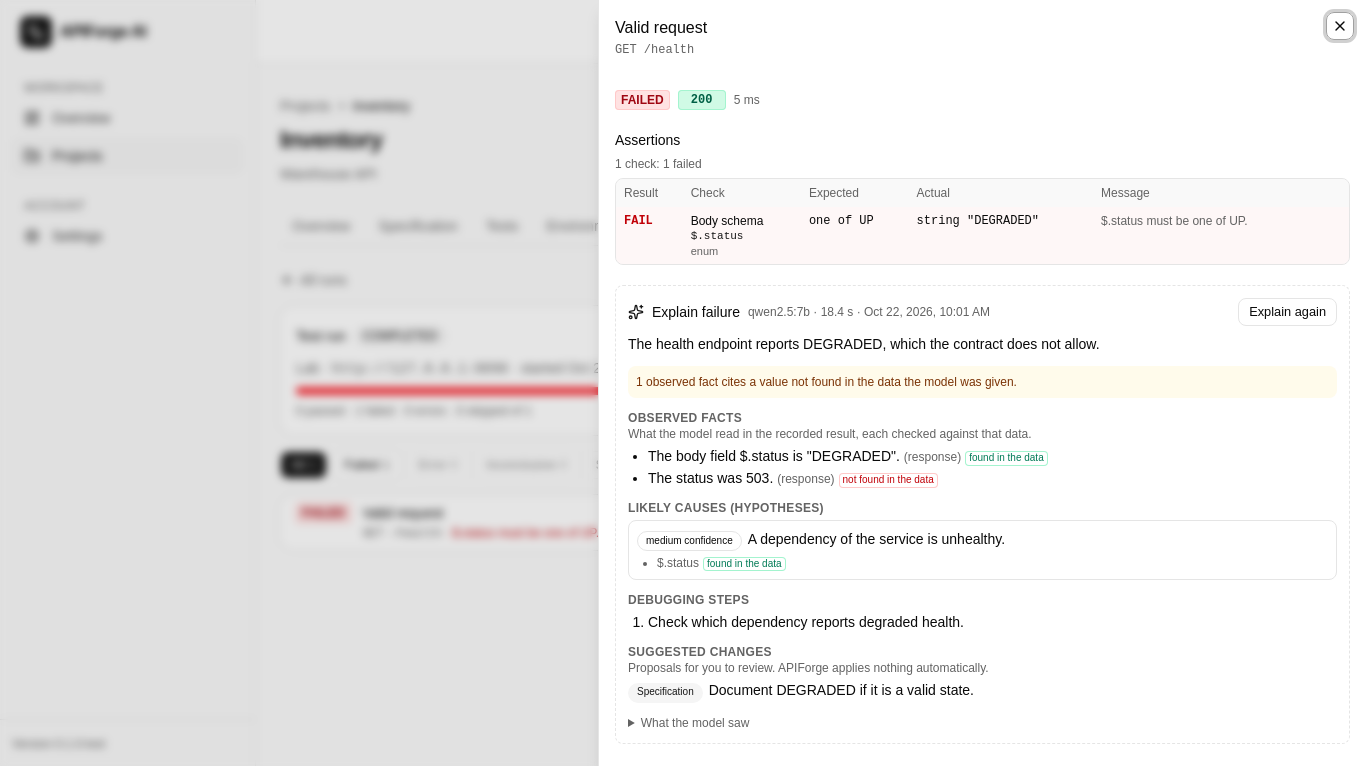
Test: Explain failure › shows a stored explanation and reports model errors
Check: the text "The health endpoint reports DEGRADED, which the contract does not allow." is shown, box top-left (628, 336), bottom-right (1100, 352)
Click the button "Explain again" at (1288, 312), box top-left (1238, 298), bottom-right (1337, 326)
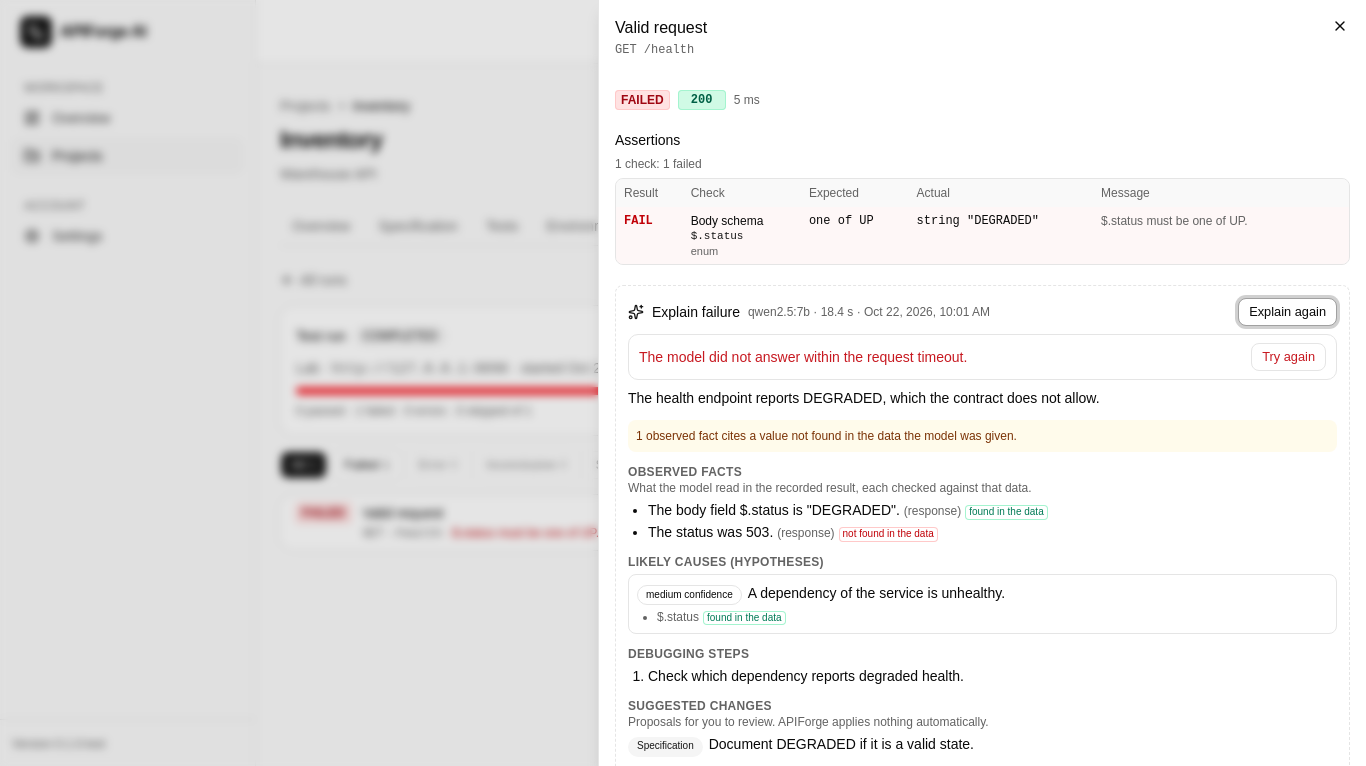
Check: the text "The health endpoint reports DEGRADED, which the contract does not allow." is shown, box top-left (628, 390), bottom-right (1100, 406)
Check: the text "The model did not answer within the request timeout." is shown, box top-left (639, 349), bottom-right (967, 365)
